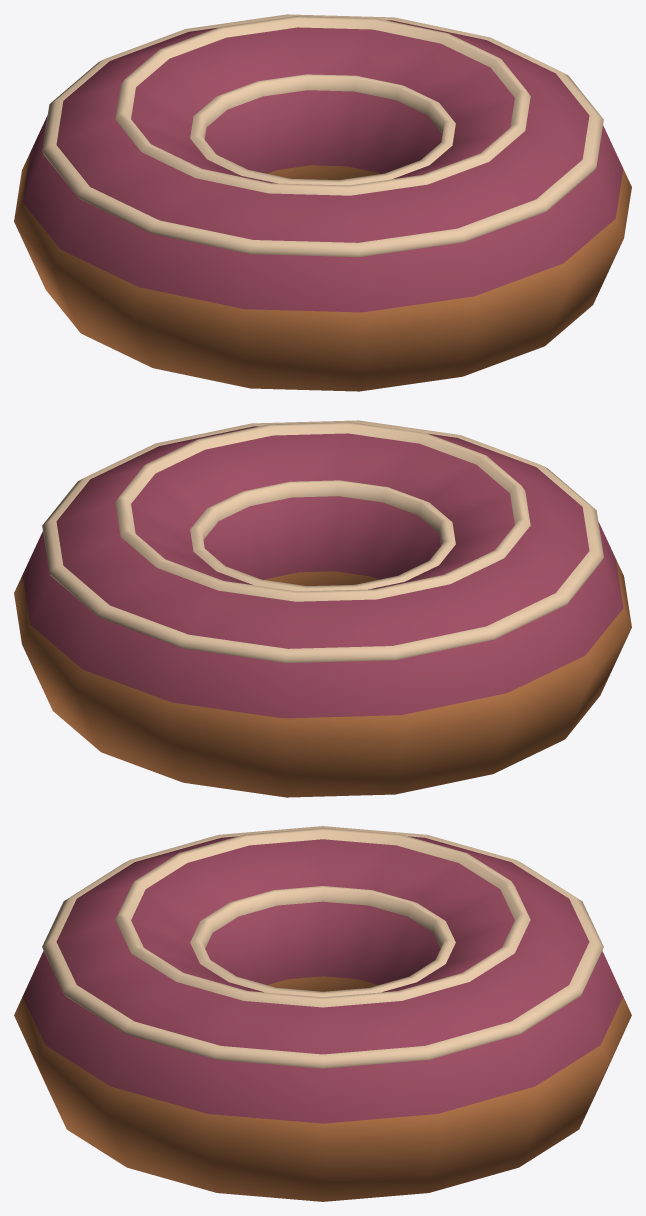
The model's file is Donut_03.fbx.
3 renders of one model, top to bottom at view 1: azimuth 30°, elevation 25°; view 2: azimuth 150°, elevation 25°; view 3: azimuth 270°, elevation 25°, orthographic.
Parts seen in each view (by area): view 1: Donut_03; view 2: Donut_03; view 3: Donut_03.
Boxes of the visible parts, x1=… form: Donut_03: x1=14, y1=14, x2=631, y2=391; Donut_03: x1=14, y1=420, x2=631, y2=797; Donut_03: x1=14, y1=826, x2=631, y2=1201.
Bounding box in the file's own units: 0.121 × 0.0431 × 0.121.
